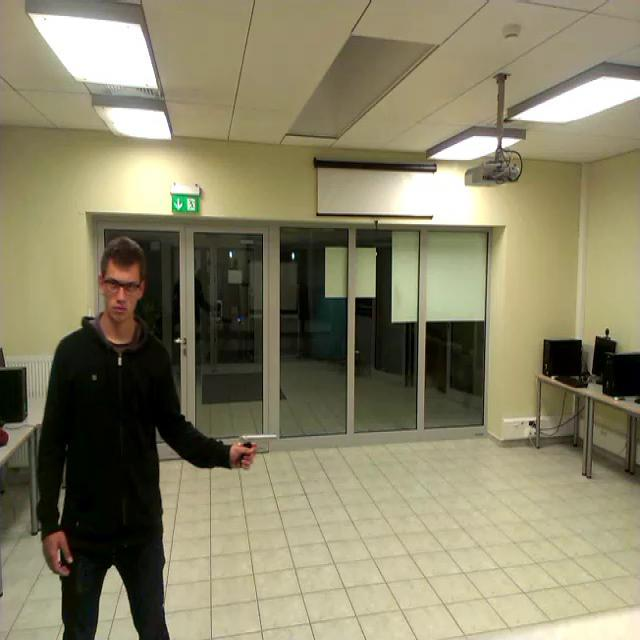Gun: (240, 433, 278, 466)
